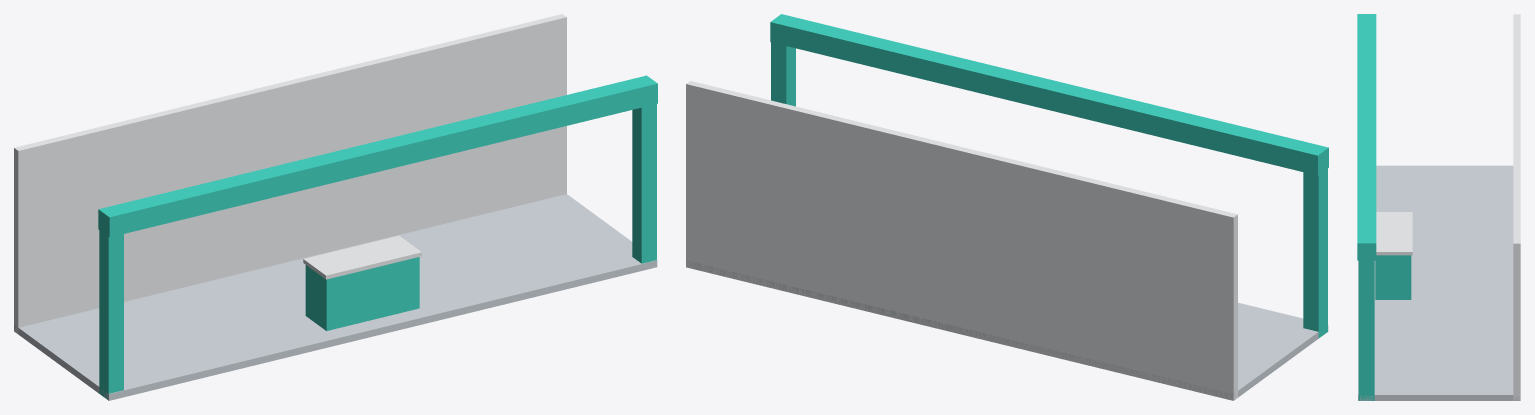
3 renders of one model, left to right at view 1: azimuth 30°, elevation 25°; view 2: azimuth 150°, elevation 25°; view 3: azimuth 270°, elevation 25°, orthographic. The views are drawn at different scales.
Visible parts, largest first — view 1: Exhibition Booth Concept; view 2: Exhibition Booth Concept; view 3: Exhibition Booth Concept.
Part boxes in pixels (<box>): Exhibition Booth Concept: <box>14,14,657,400</box>; Exhibition Booth Concept: <box>686,14,1328,400</box>; Exhibition Booth Concept: <box>1357,14,1520,400</box>.
Size of the model in its own units: 10 by 3.2 by 3.01.
